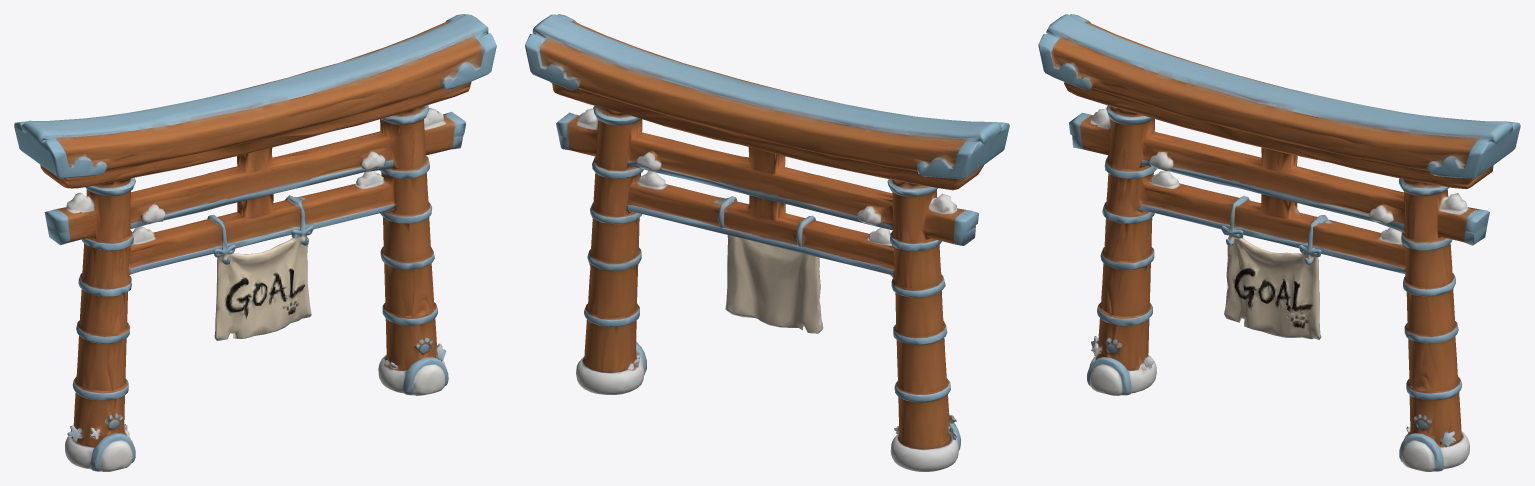
Rendered from nyanisyarud-goal-torii.glb.
3 views of the same model, side by side, from view 1: azimuth 30°, elevation 25°; view 2: azimuth 150°, elevation 25°; view 3: azimuth 330°, elevation 25° (orthographic).
Parts seen in each view (by area): view 1: tripo_node_0c2b2d94-e9e3-461d-a229-5e786b9c6cee; view 2: tripo_node_0c2b2d94-e9e3-461d-a229-5e786b9c6cee; view 3: tripo_node_0c2b2d94-e9e3-461d-a229-5e786b9c6cee.
Part boxes in pixels (x1,y1,x2,y2): tripo_node_0c2b2d94-e9e3-461d-a229-5e786b9c6cee: (14, 14, 496, 471); tripo_node_0c2b2d94-e9e3-461d-a229-5e786b9c6cee: (525, 14, 1009, 471); tripo_node_0c2b2d94-e9e3-461d-a229-5e786b9c6cee: (1038, 14, 1520, 471).
Bounding box in the file's own units: 0.9812 × 0.7241 × 0.1559.
Materials: 1 (1 with a texture image).
